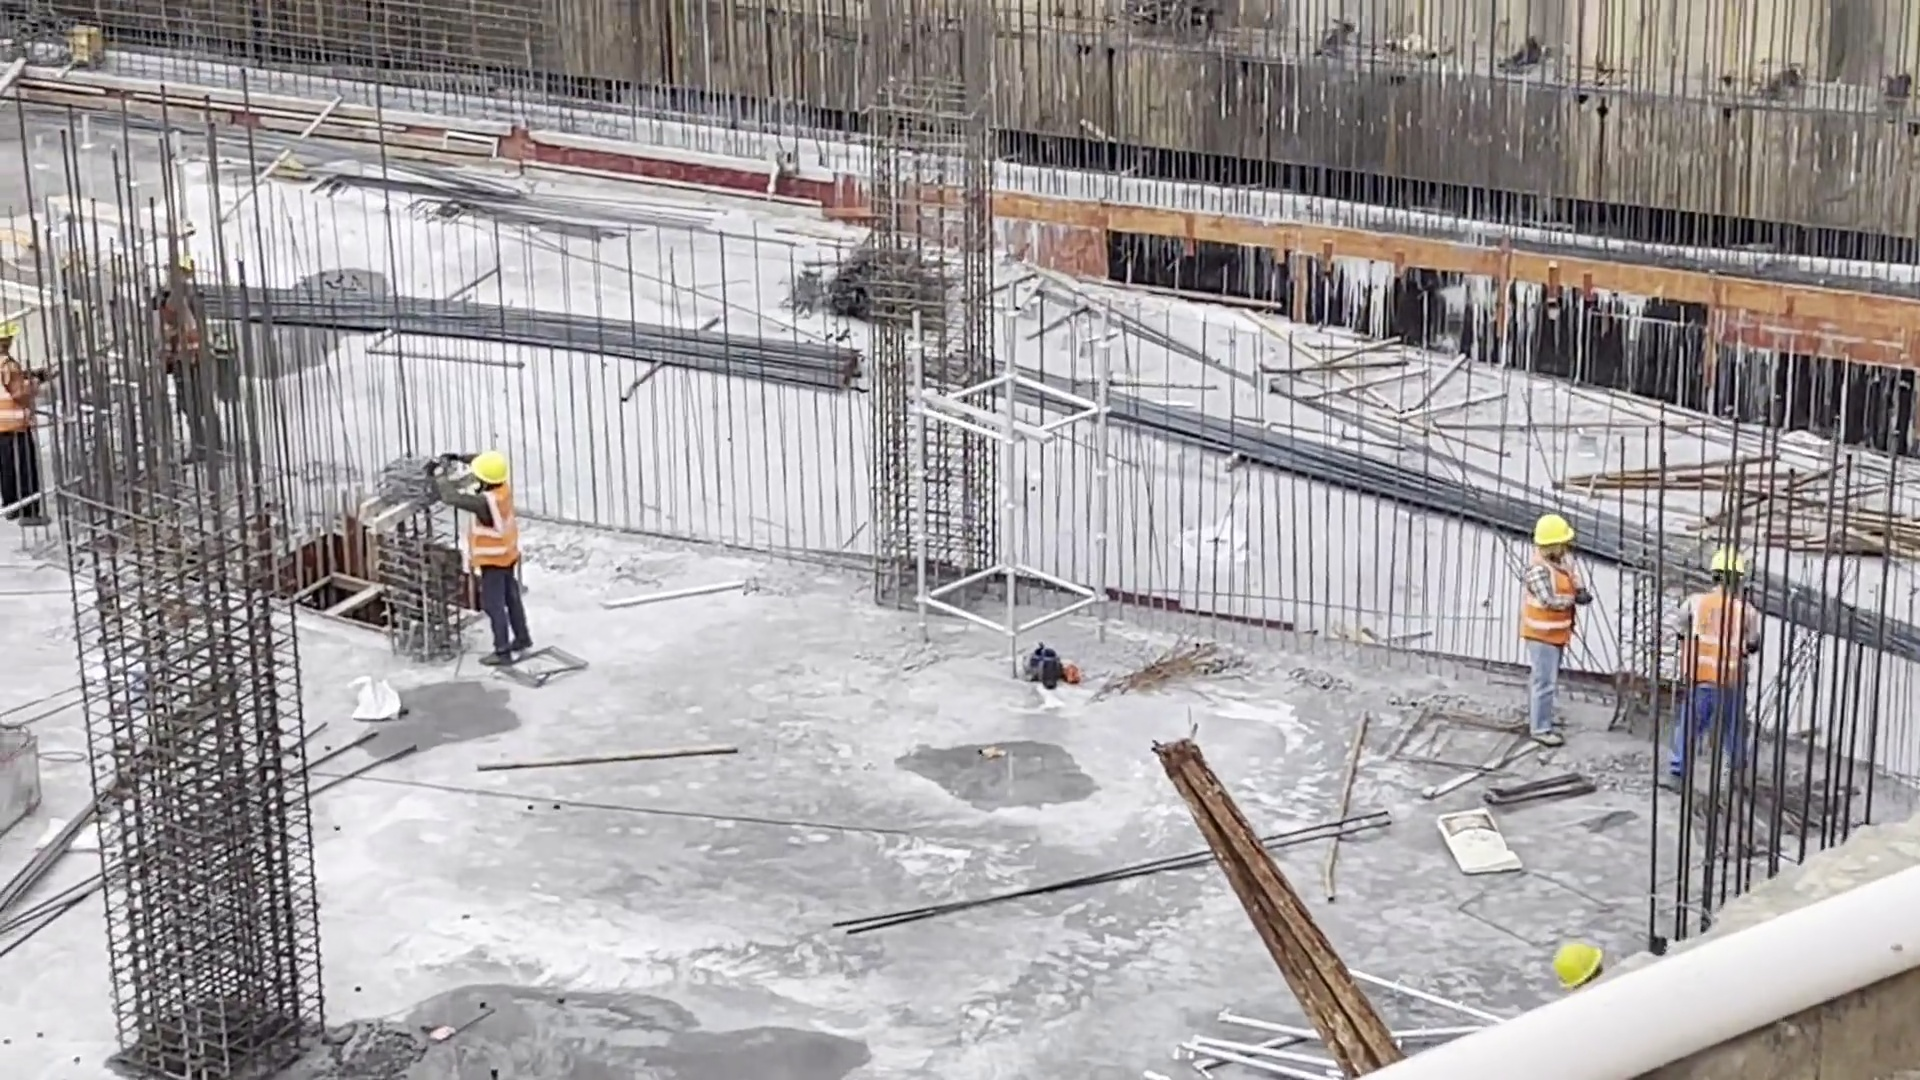helmet: (1540, 924, 1615, 987), (468, 449, 513, 489), (1537, 510, 1574, 549), (1708, 550, 1753, 574)
person: (435, 437, 539, 664), (1511, 507, 1598, 752), (148, 255, 226, 467), (1692, 549, 1752, 791), (3, 315, 49, 531)
vest: (1694, 589, 1750, 694), (1522, 556, 1581, 651), (470, 495, 527, 568), (160, 296, 212, 372), (5, 365, 42, 432)
